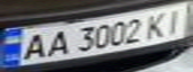0: (93, 20, 115, 50), (109, 18, 130, 47)
2: (124, 15, 151, 44)
3: (72, 24, 96, 53)
A: (15, 30, 51, 62), (39, 28, 72, 58)
I: (160, 5, 193, 35)
K: (142, 9, 175, 39)
